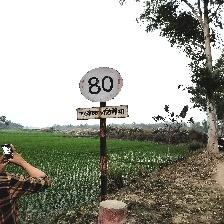Speed-limit: (77, 66, 127, 119)
